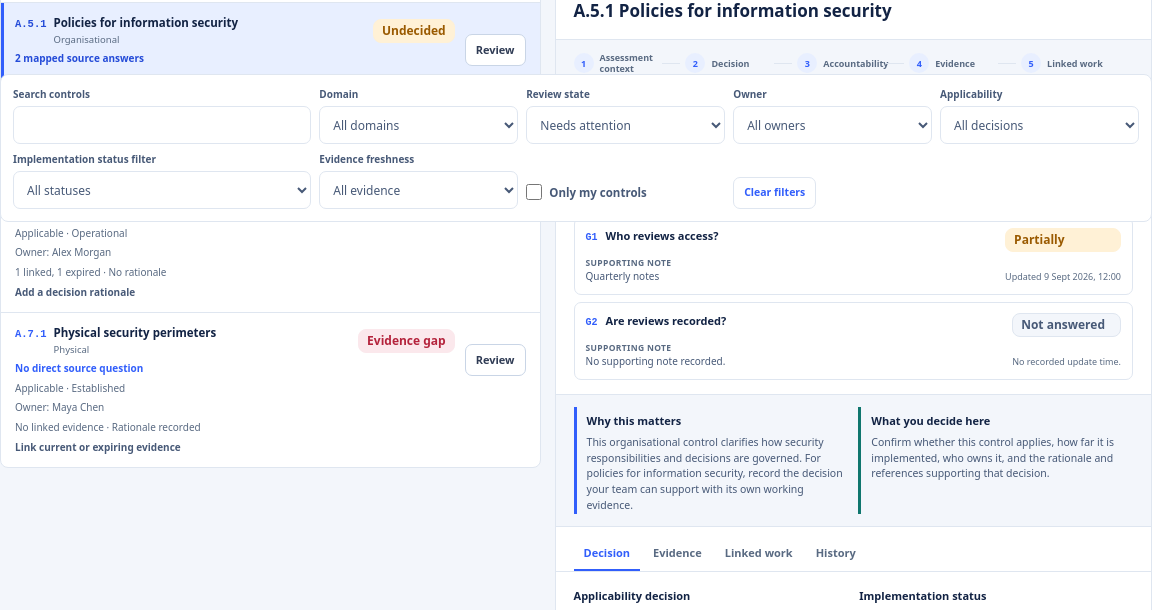
SoaReviewWorkspace › shows every mapped answer as current guidance and makes unmapped context explicit
(page scrolled)
Expected: the text "G1" is shown, [586,230,598,245]
Expected: the text "Partially" is shown, [1005,228,1121,252]
Step 1. Click the button named "Review A.7.1 Physical security perimeters" → (495, 360), box [465,344,526,376]
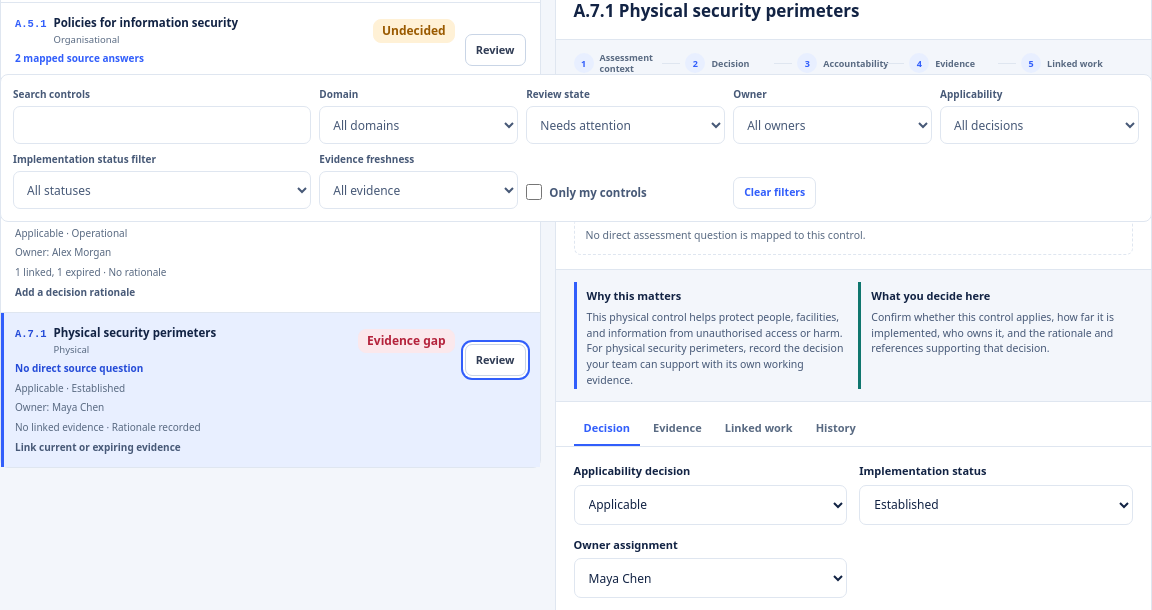
Expected: the text "No direct assessment question is mapped to this control." is shown, [574,217,1133,255]
